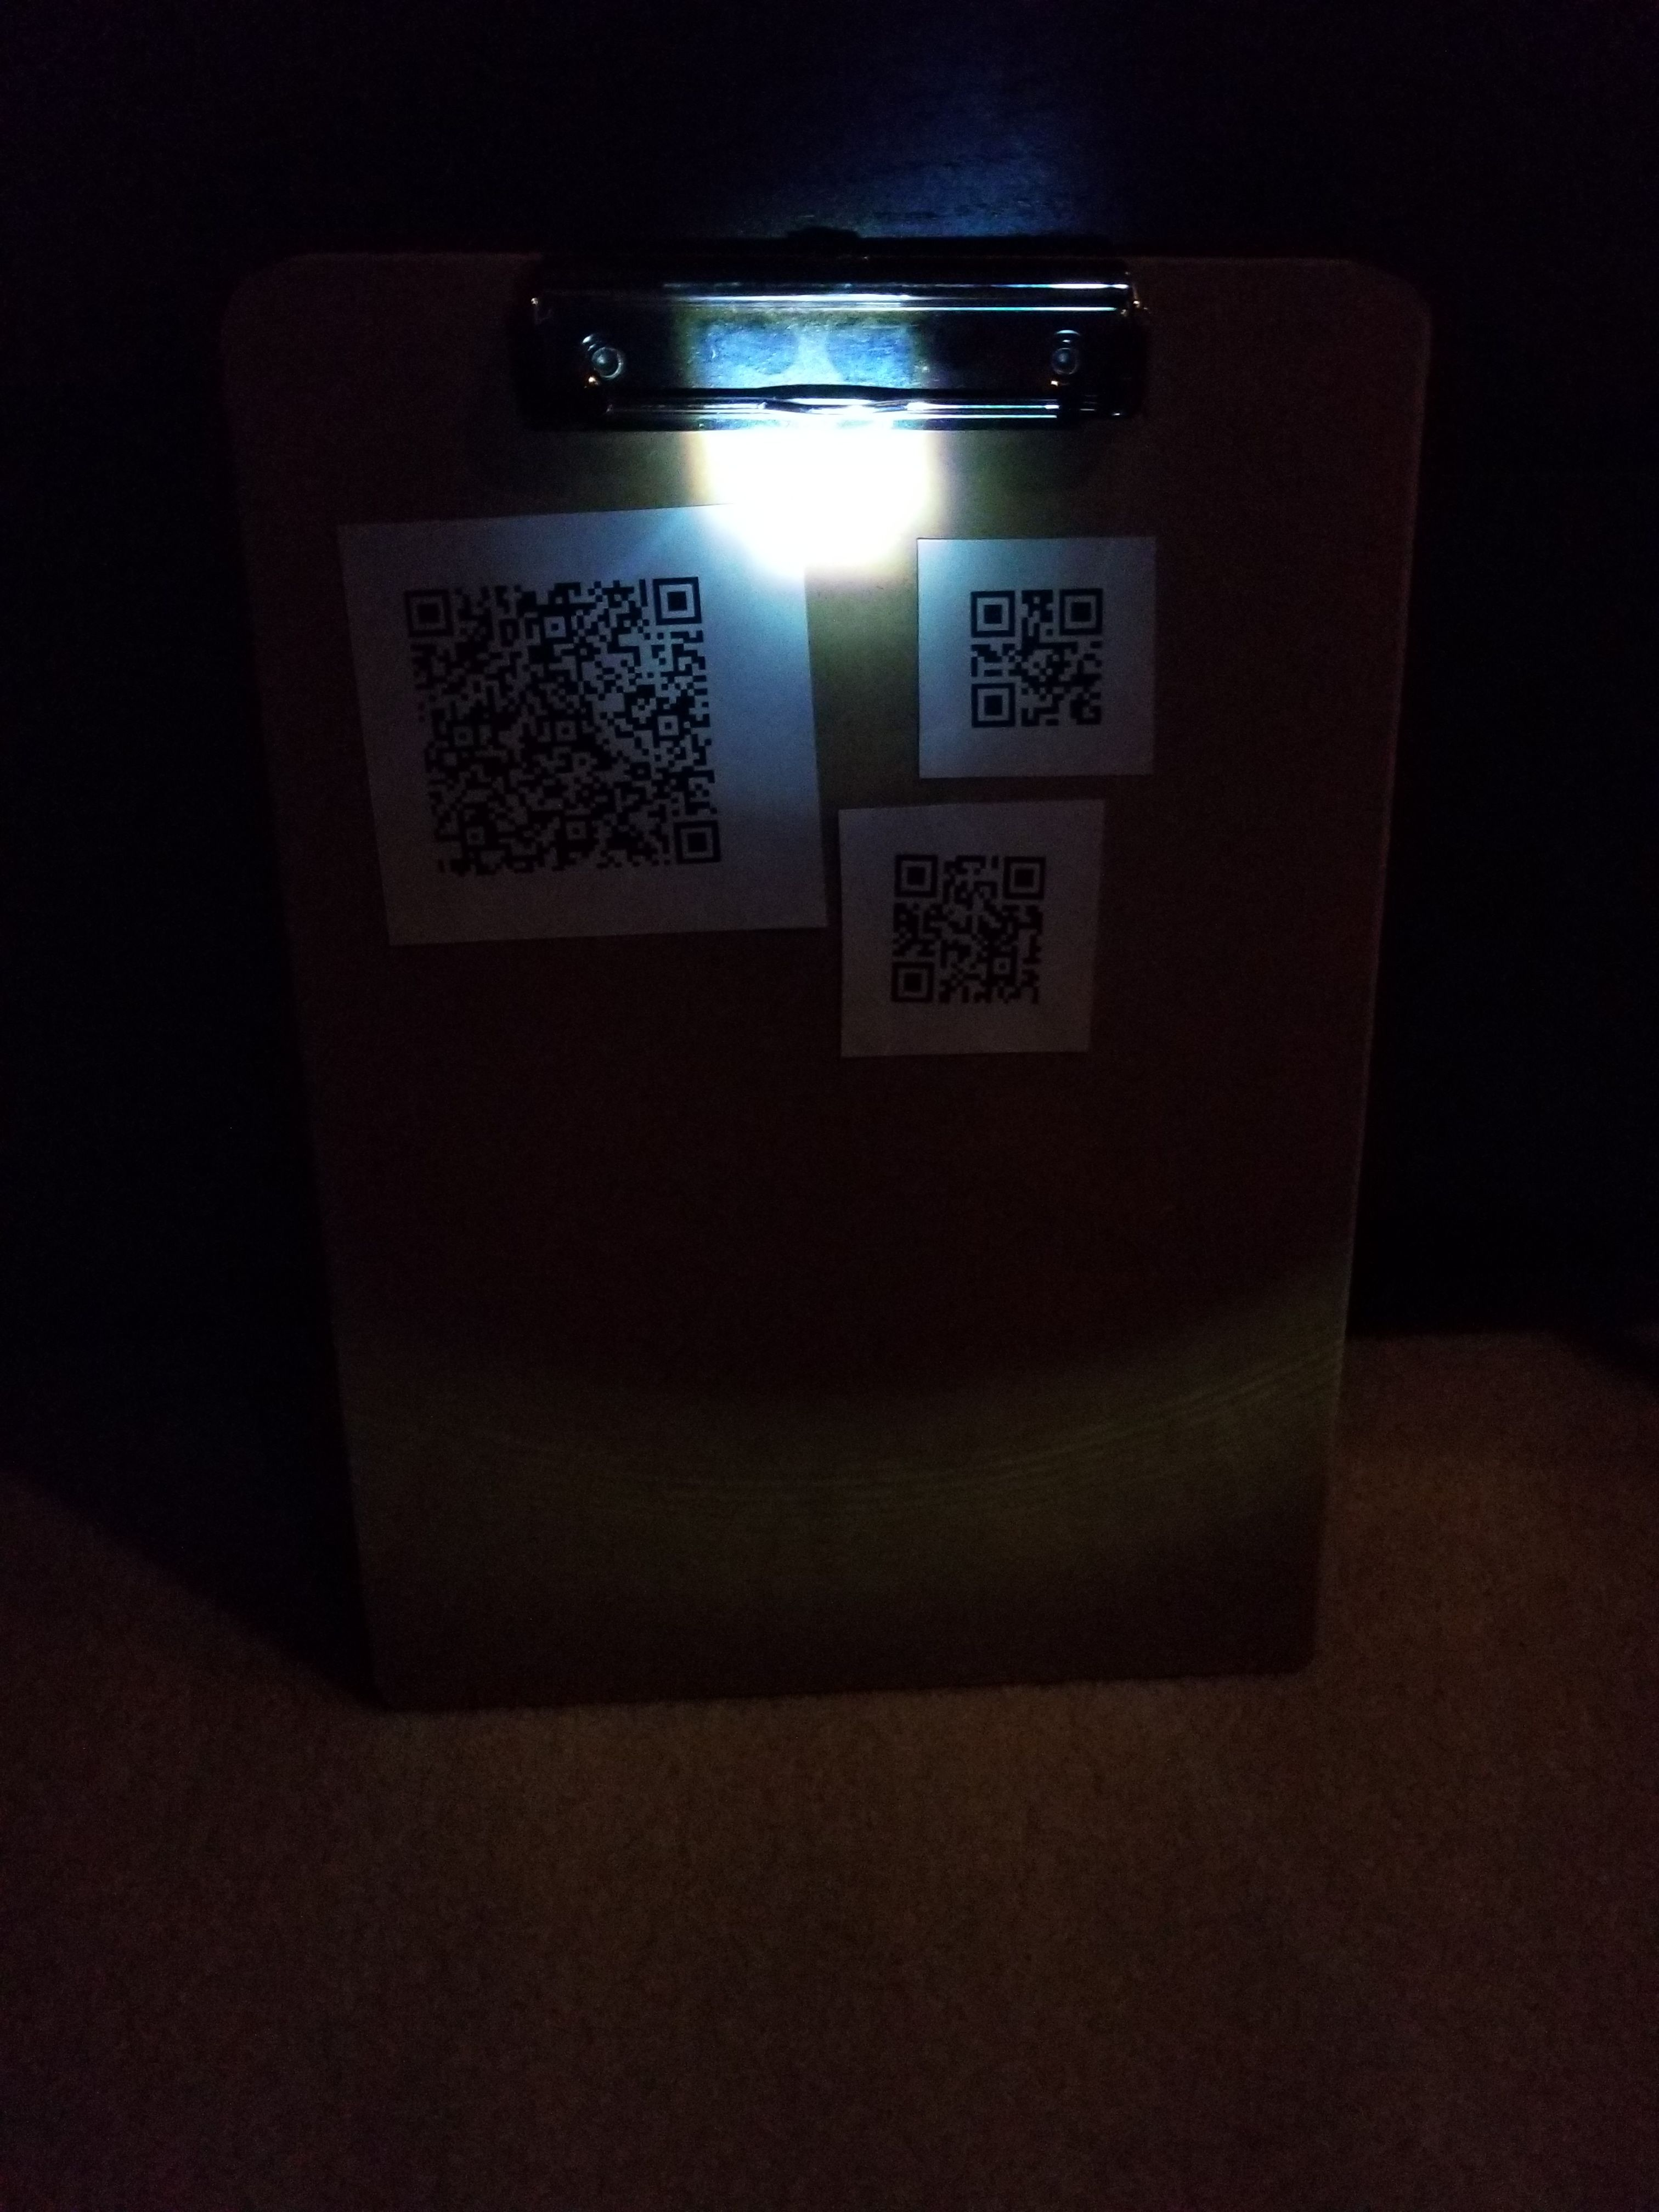QR_CODE: (382, 536, 737, 916), (847, 820, 1080, 1043), (948, 543, 1140, 756)
